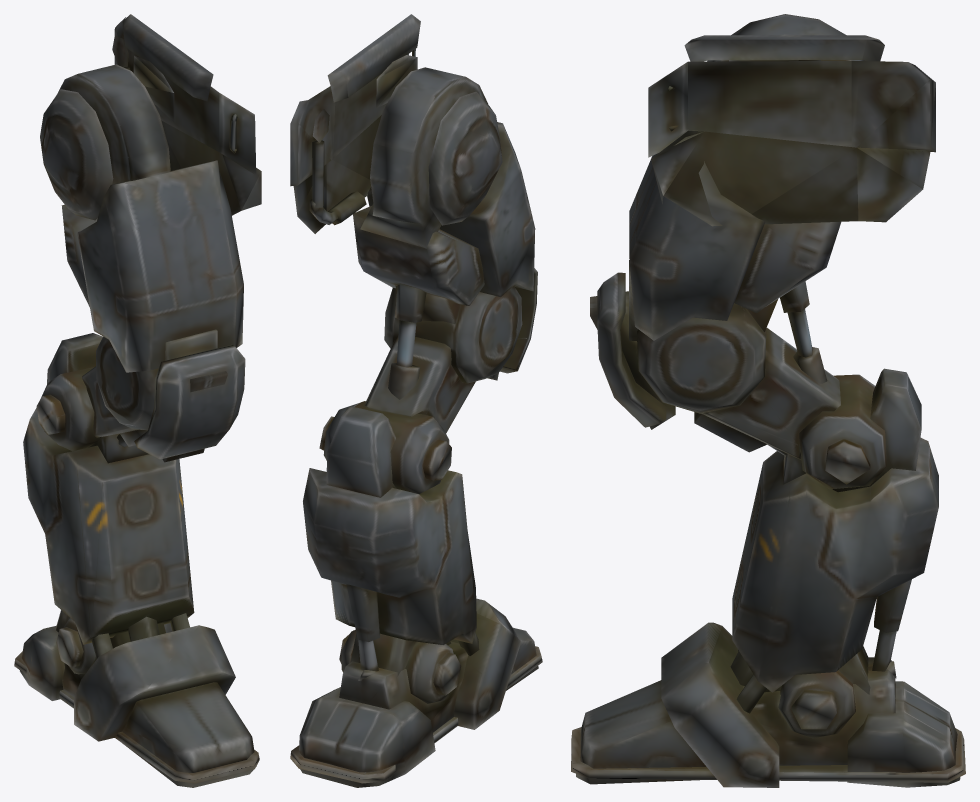
File: boss_leg.glb
3 renders of one model, left to right at view 1: azimuth 30°, elevation 25°; view 2: azimuth 150°, elevation 25°; view 3: azimuth 270°, elevation 25°, orthographic. The views are drawn at different scales.
Visible parts, largest first — view 1: geometry_0; view 2: geometry_0; view 3: geometry_0.
Boxes of the visible parts, box(x1,y1,x2,y2) form: geometry_0: box(14, 14, 261, 787); geometry_0: box(290, 14, 542, 787); geometry_0: box(571, 14, 965, 787).
Bounding box in the file's own units: 0.2285 × 0.9512 × 0.4556.
1 material, 1 textured.
